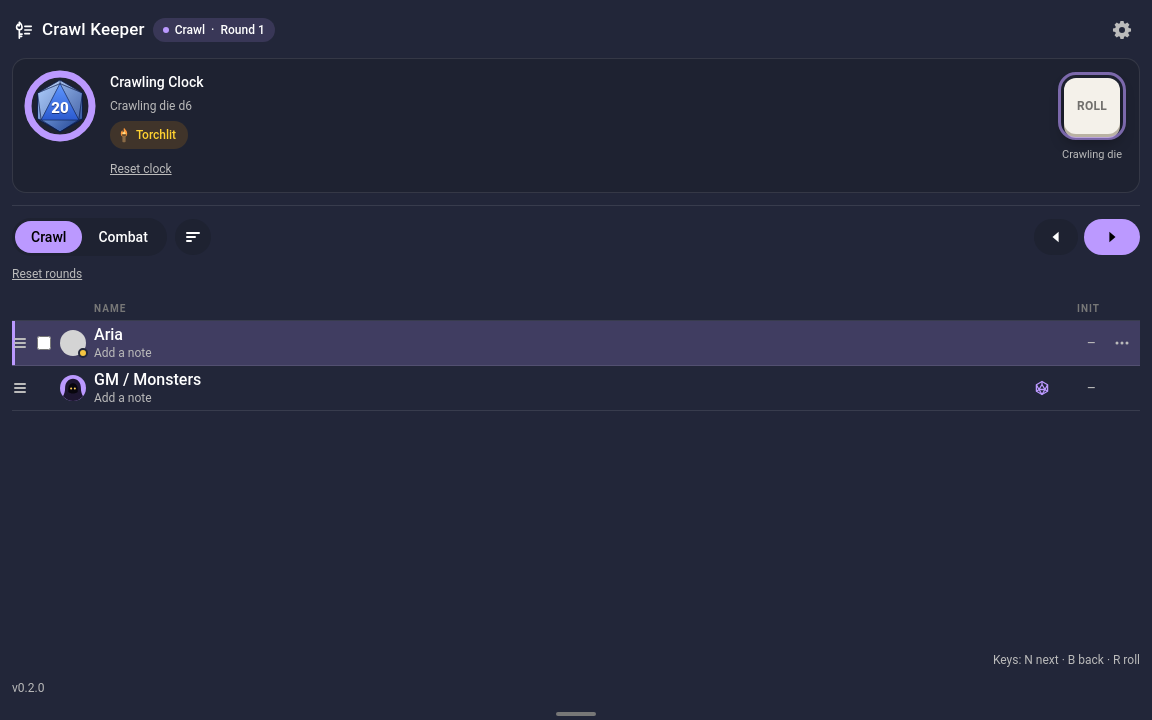
Test: Tracker (GM) › the crawl card › auto roll: ▶ onto the GM turn rolls the crawling die; off, it waits for the GM
Click the button named "Next turn" at (1112, 236), box 1084,218 -> 1140,254
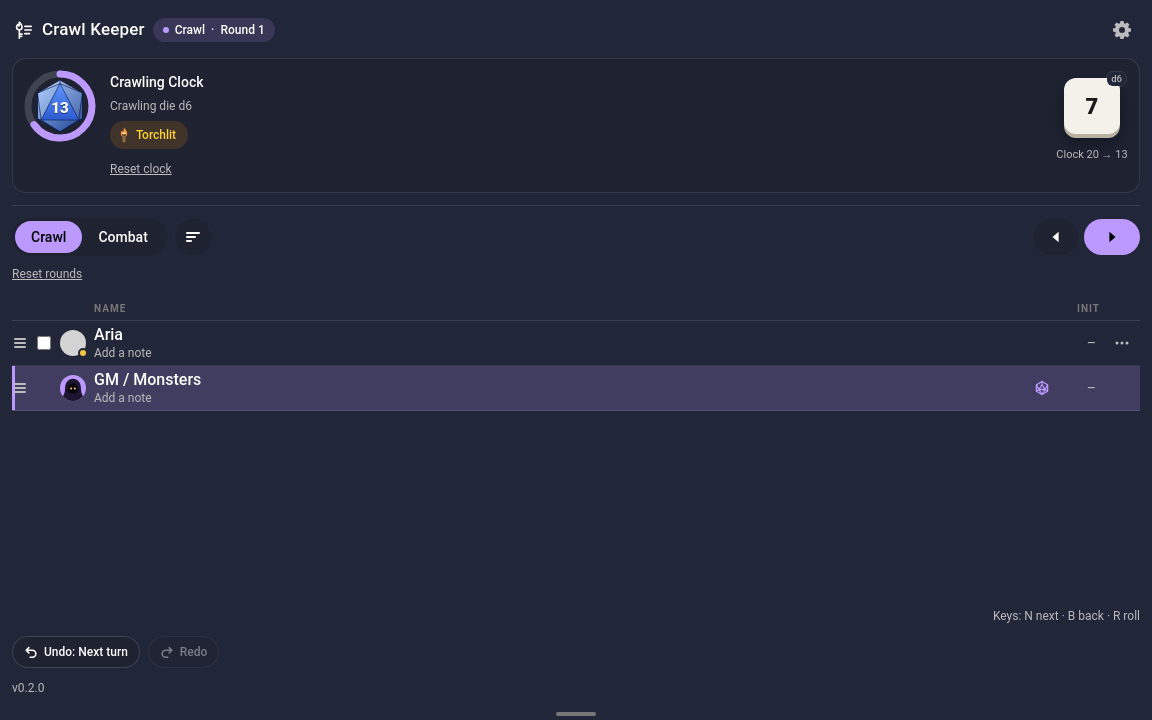
Result: the message named "Last roll" reads "Clock 20 → 13" at 1056,148 -> 1128,161
